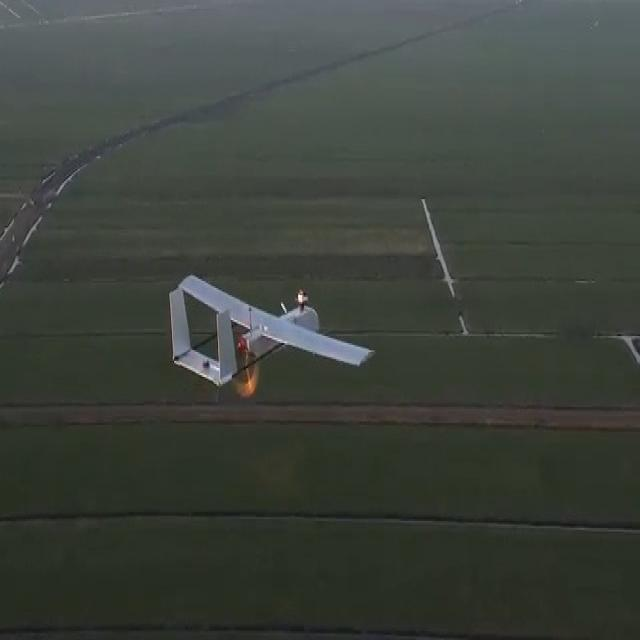iha: (165, 250, 377, 401)
